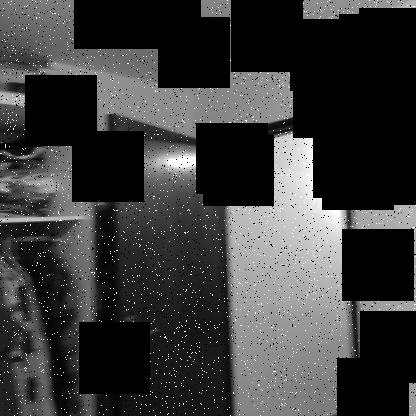Porte: (103, 101, 368, 416)
